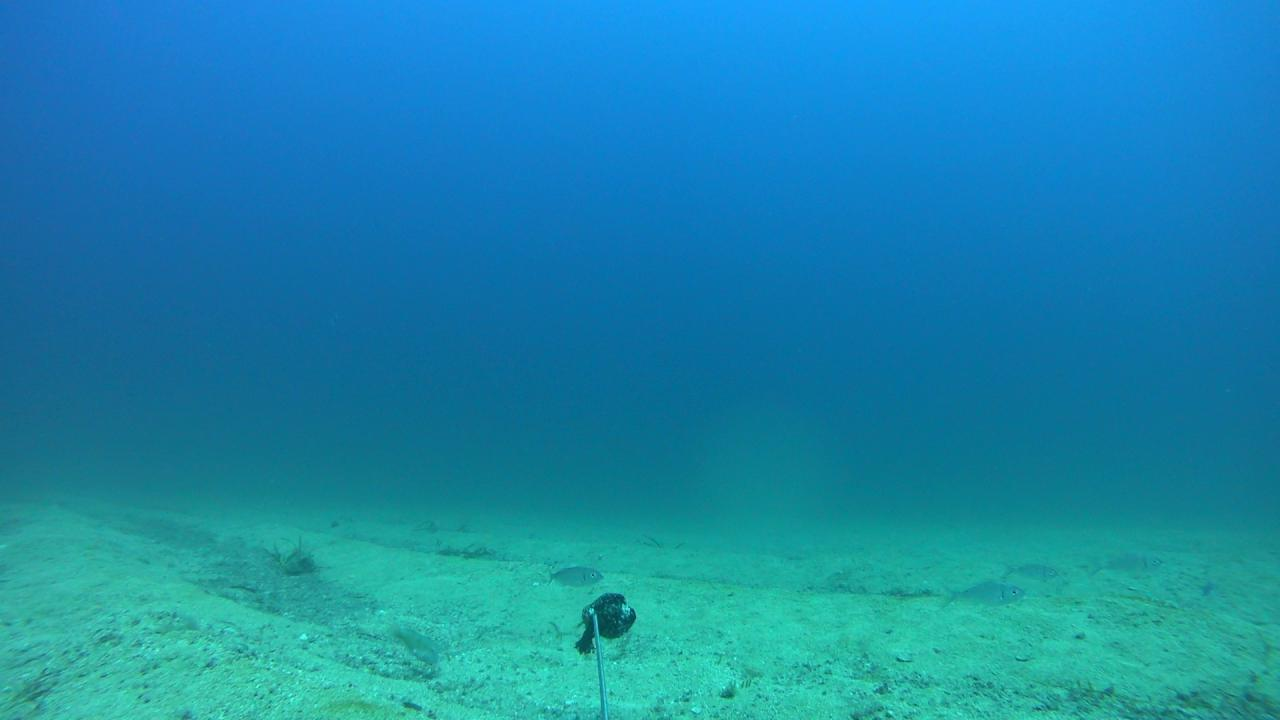pagellus: (942, 579, 1025, 607), (1083, 552, 1162, 579), (544, 566, 604, 588), (1001, 560, 1057, 580)
raor: (390, 618, 438, 662)
